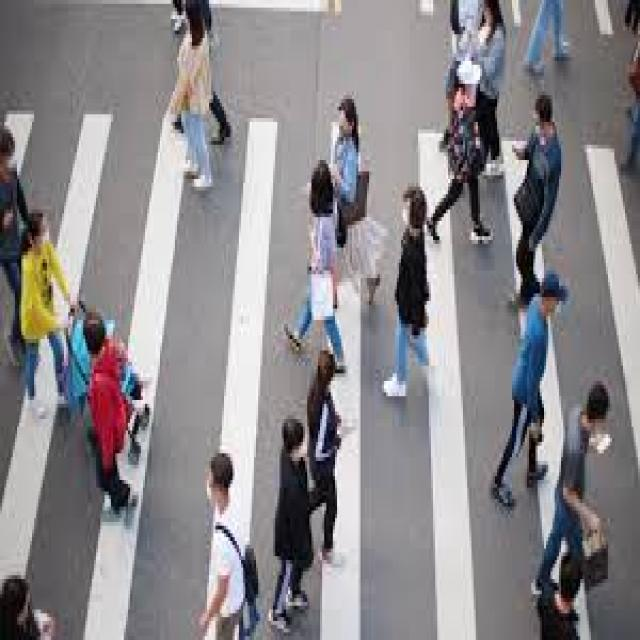Pedestrians: (531, 377, 617, 617), (490, 267, 568, 514), (81, 308, 141, 522), (286, 160, 345, 373), (384, 183, 439, 404), (329, 95, 386, 301), (19, 210, 75, 419), (197, 454, 260, 636), (166, 4, 224, 198), (506, 91, 559, 301), (305, 350, 348, 568), (269, 416, 311, 632)
